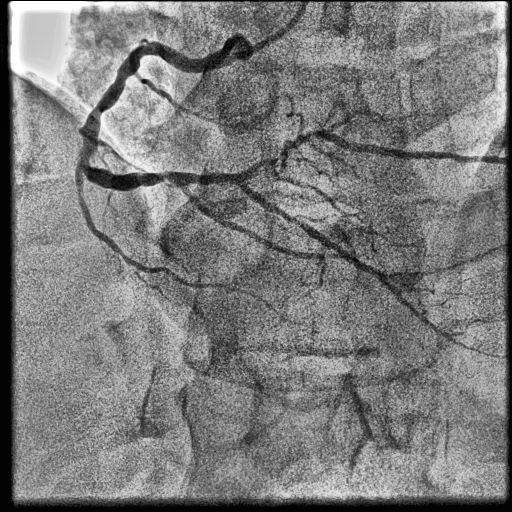pborca: (241, 130, 510, 182)
pda: (236, 182, 508, 358)
rca: (78, 42, 243, 191)
